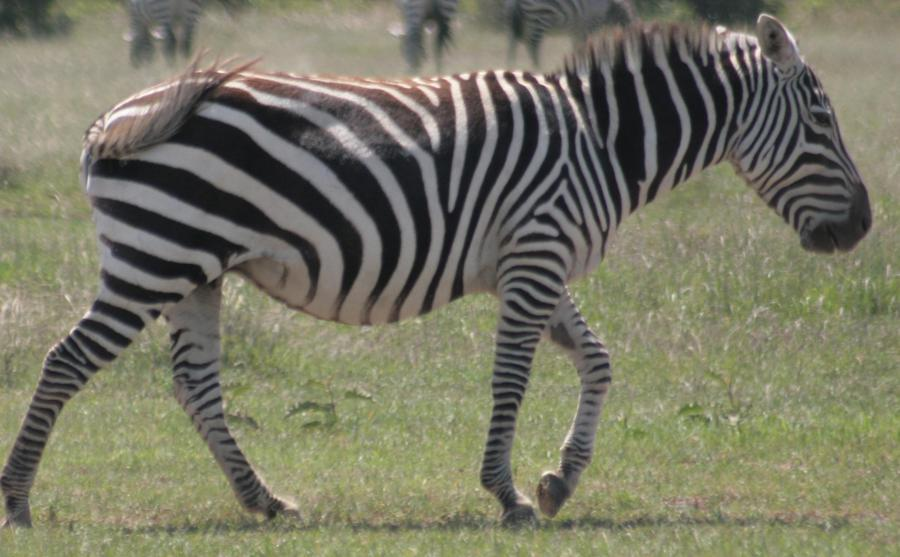zebra_plains: (83, 51, 603, 328)
